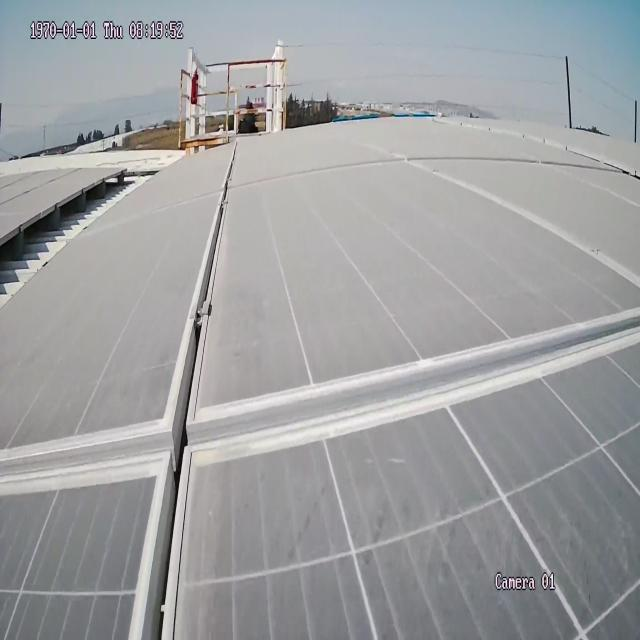interior panel: (0, 137, 640, 640)
